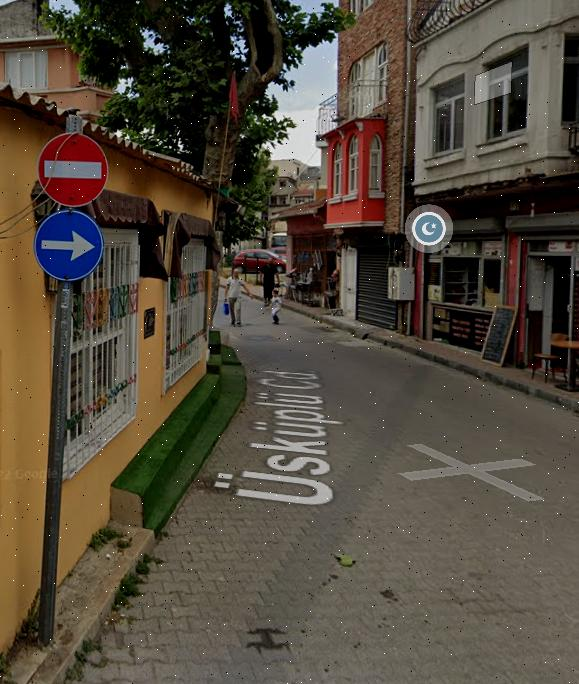turnright: (34, 214, 103, 283)
